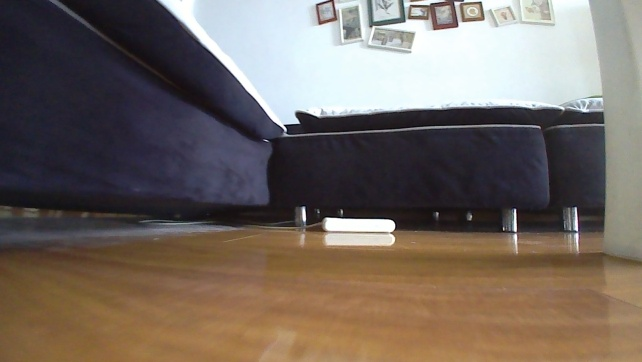sofa1: (0, 0, 607, 235)
wire: (135, 215, 323, 232)
